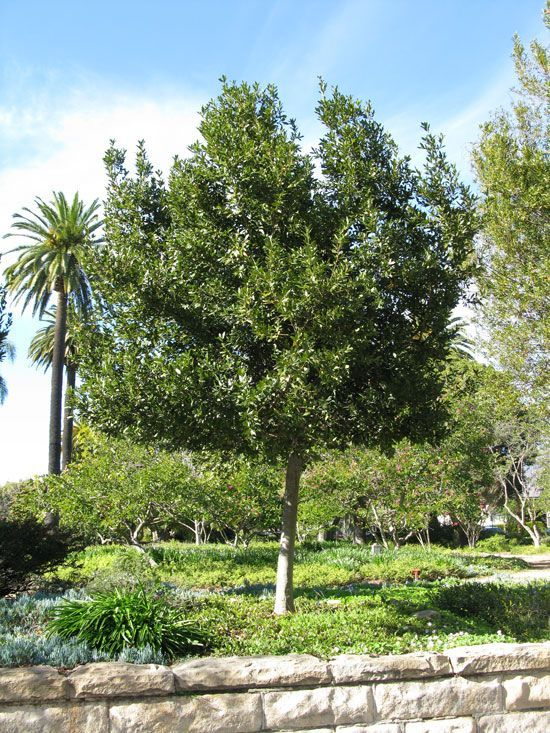tree: (64, 72, 468, 617)
